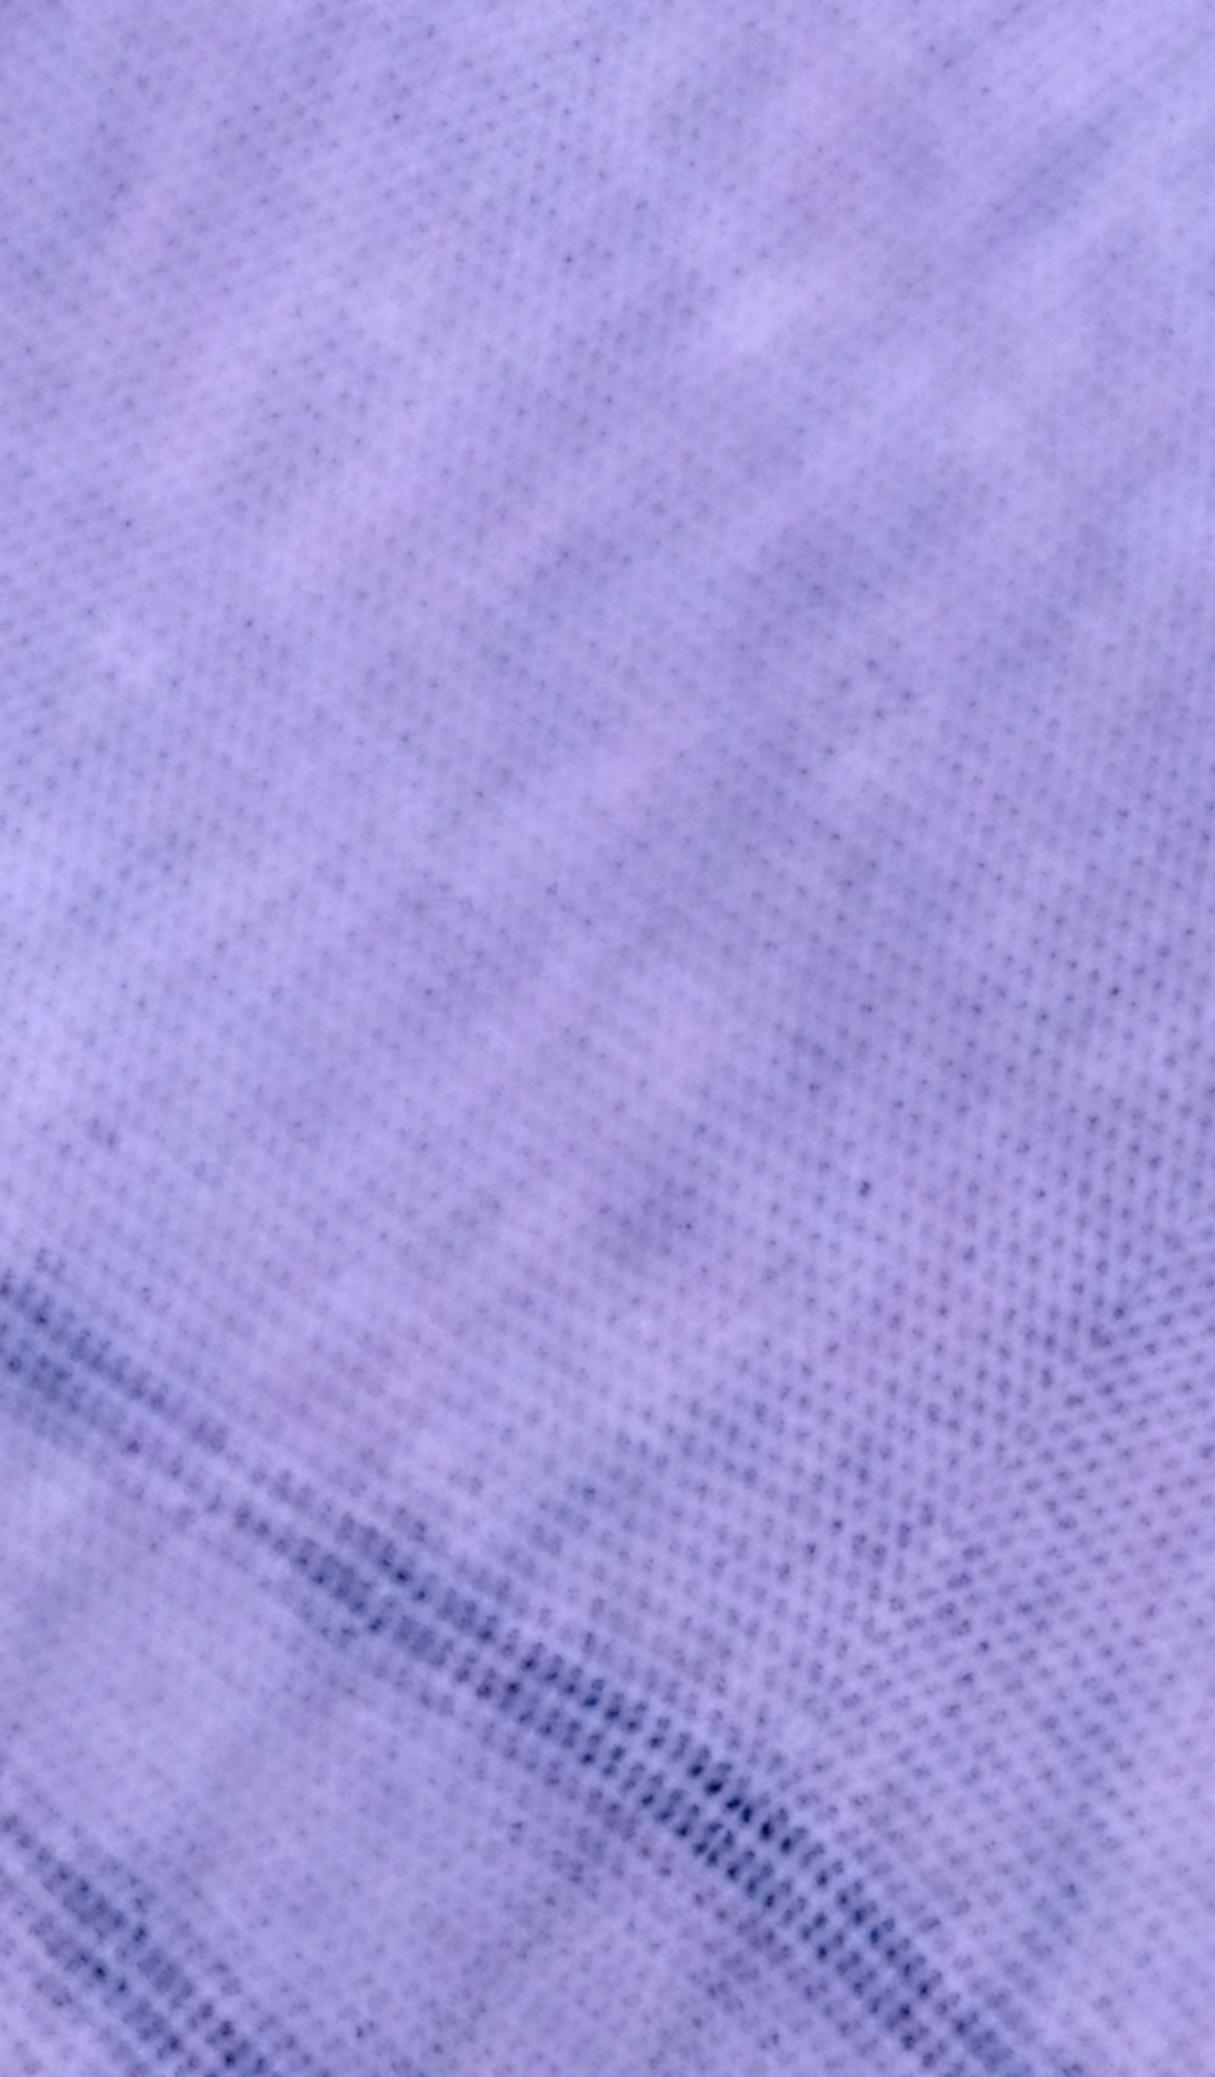slub: (14, 1248, 1082, 2074), (9, 1791, 317, 2071)
